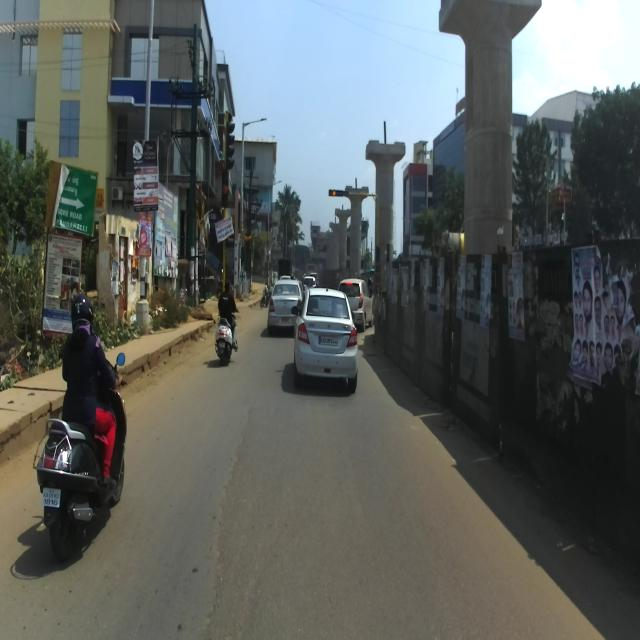car ahead at: (289, 285, 361, 392)
motorcycle ahead at: (32, 409, 130, 564)
sign board ahead at: (45, 161, 101, 244)
